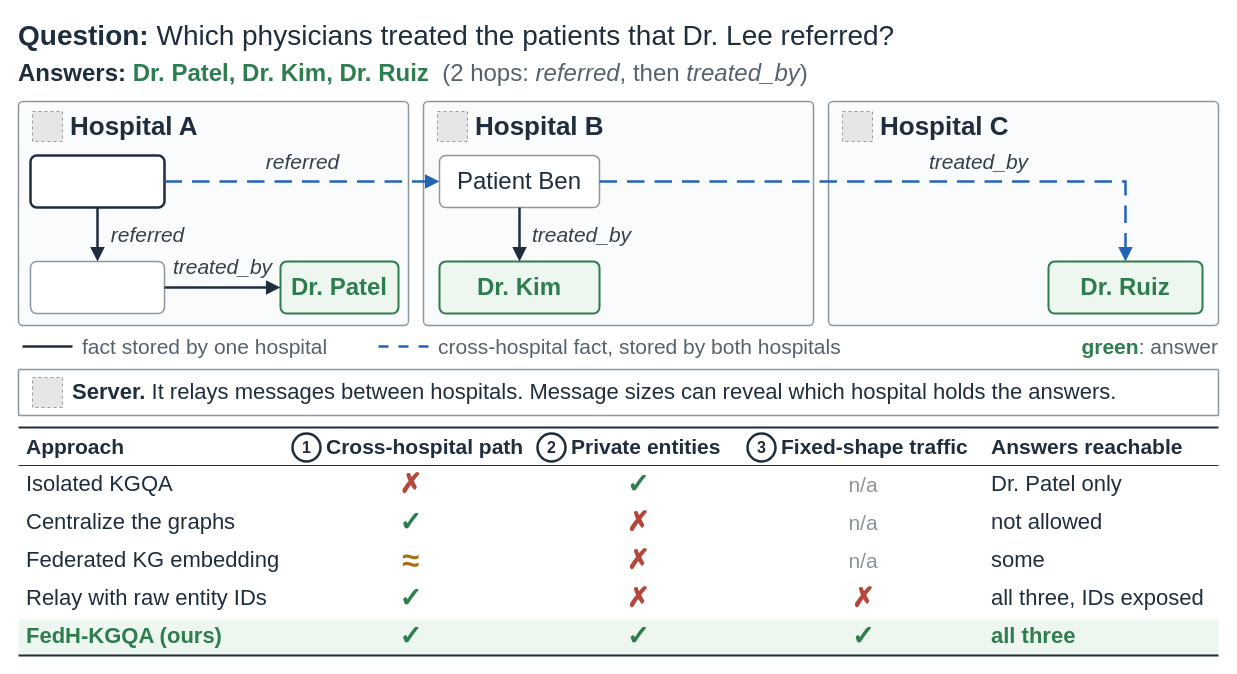
Image size: 1237x674. Some labels were removed from this diagram. Grey dashed boxes stand in for pictures. Each missing label, with the centre of its shape:
Dr. Lee: the point at 97,181
Patient Ana: the point at 97,287
